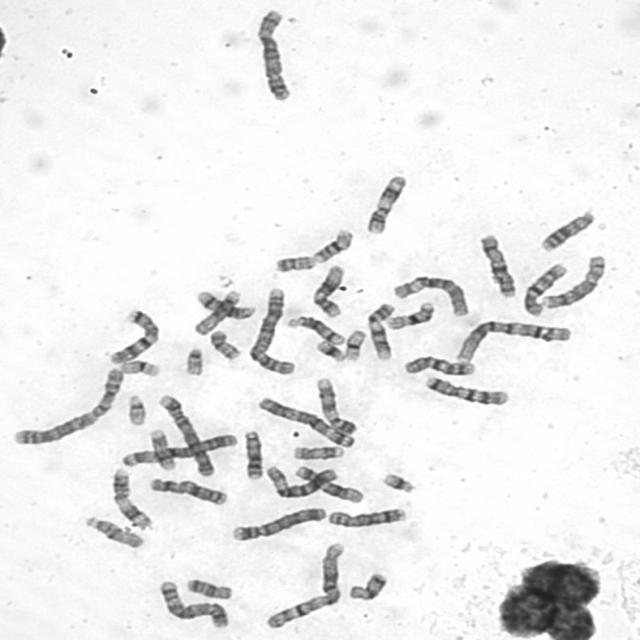A1: (260, 538, 348, 630), (450, 316, 573, 364)
A2: (9, 365, 125, 447), (245, 285, 297, 376)
A3: (254, 394, 358, 449), (117, 431, 240, 468)
B4: (155, 391, 217, 479), (227, 503, 328, 542)
B5: (252, 6, 293, 103), (155, 578, 230, 630)
C10: (519, 260, 569, 318), (401, 353, 477, 377)
C11: (108, 466, 155, 532), (363, 172, 408, 235)
C12: (290, 464, 364, 505), (308, 262, 346, 318)
C6: (390, 272, 470, 318), (260, 462, 338, 499)
C7: (105, 306, 162, 366), (420, 373, 510, 407)
C8: (539, 252, 607, 310), (324, 504, 408, 530)
C9: (312, 374, 358, 436), (362, 300, 397, 362)
D13: (537, 208, 598, 253), (240, 427, 265, 481)
D14: (192, 288, 257, 320), (282, 314, 346, 346)
D15: (190, 287, 242, 337), (80, 513, 146, 551)
E16: (309, 227, 355, 264), (383, 298, 436, 330)
E17: (145, 426, 177, 472), (290, 443, 346, 461)
E18: (344, 570, 388, 602), (182, 576, 234, 601)
F19: (116, 357, 162, 378), (342, 327, 366, 363)
F20: (206, 328, 242, 361), (271, 252, 316, 274)
G21: (378, 470, 417, 496), (312, 338, 347, 363)
G22: (123, 392, 148, 427), (181, 344, 204, 378)
X: (476, 231, 518, 300), (146, 476, 230, 507)
